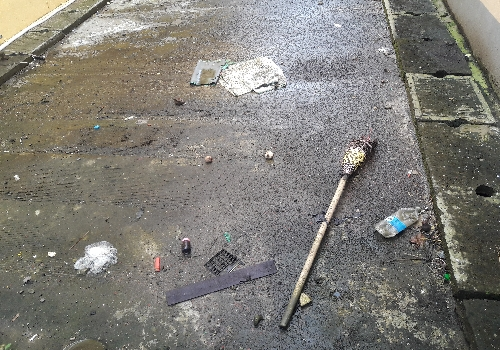trash: (272, 129, 375, 332), (161, 247, 286, 307), (185, 49, 301, 104), (367, 196, 427, 241), (75, 233, 122, 282), (178, 233, 192, 254), (152, 256, 162, 273)
